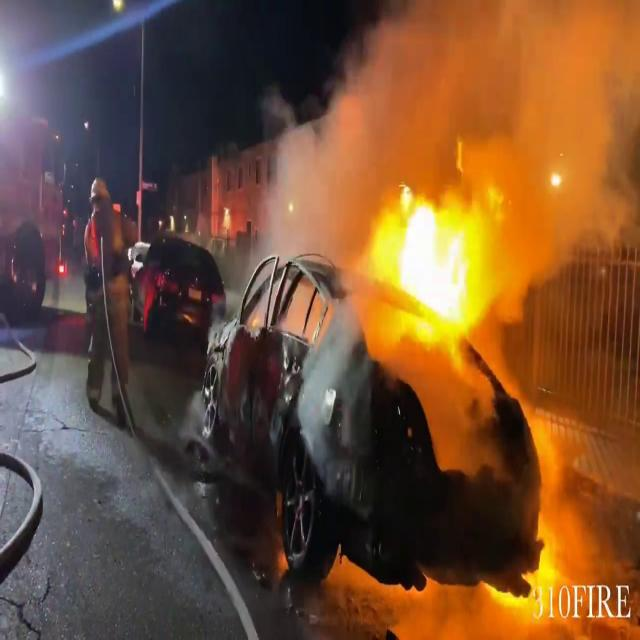Fire: (379, 178, 487, 348)
Smoke: (257, 0, 640, 289)
